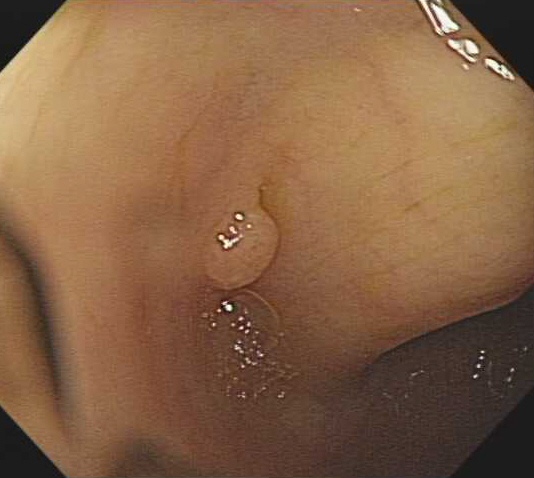others: (196, 205, 282, 292)
